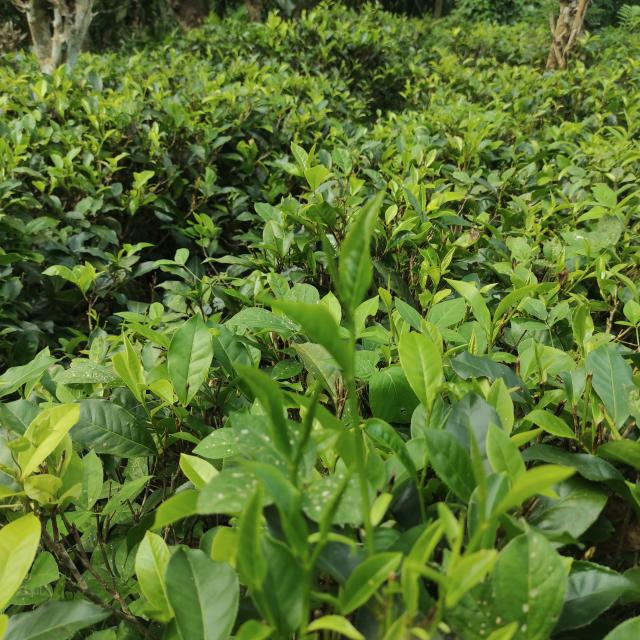unopened_leaf: (278, 369, 334, 486), (307, 208, 360, 320), (309, 462, 365, 557), (465, 432, 499, 526), (528, 336, 545, 386), (522, 263, 537, 290)
